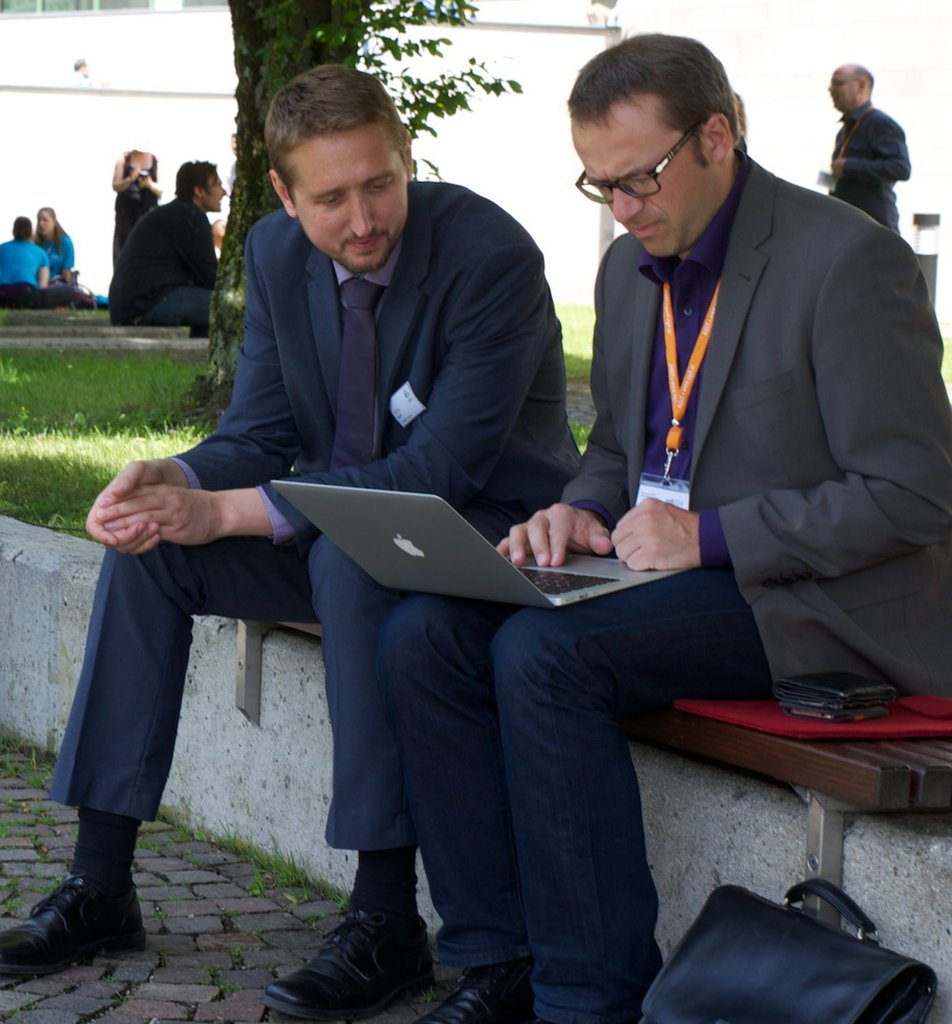Footwear: (0, 859, 143, 967), (297, 900, 422, 1010), (412, 959, 525, 1023)
